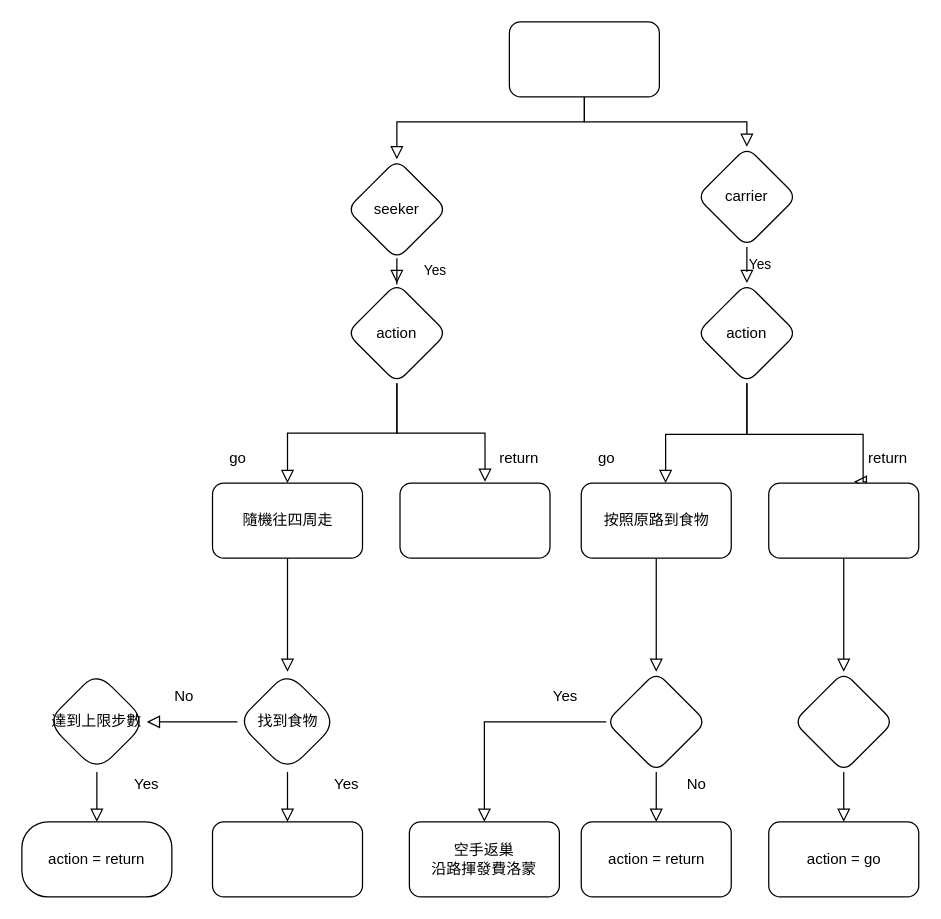
Image size: 941x919. Some labels were removed from this diagram. Here are the shapes that lost their labels. From the top down, the centre of each, then its label:
At (x=583, y=59): "role".
At (x=474, y=520): "空手返巢".
At (x=843, y=520): "攜帶食物返巢 沿路增添費洛蒙".
At (x=655, y=721): "食物已空".
At (x=843, y=721): "走到巢穴".
At (x=286, y=859): "role = carrier action = return".
